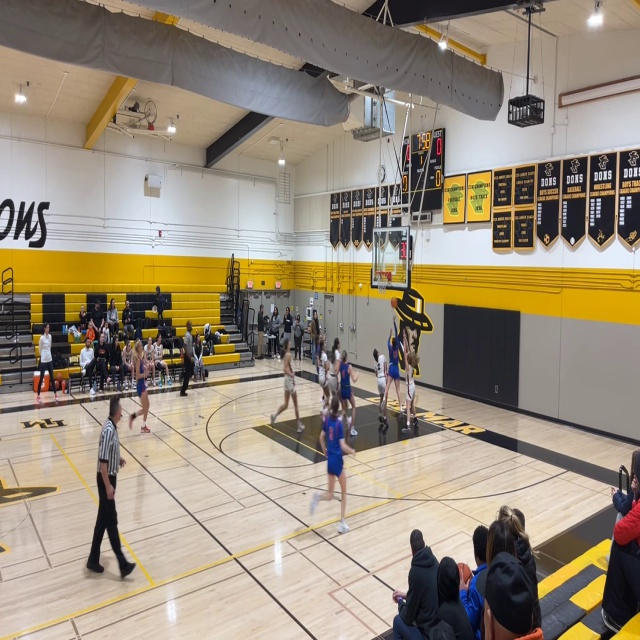Basketball: (390, 297, 399, 308)
